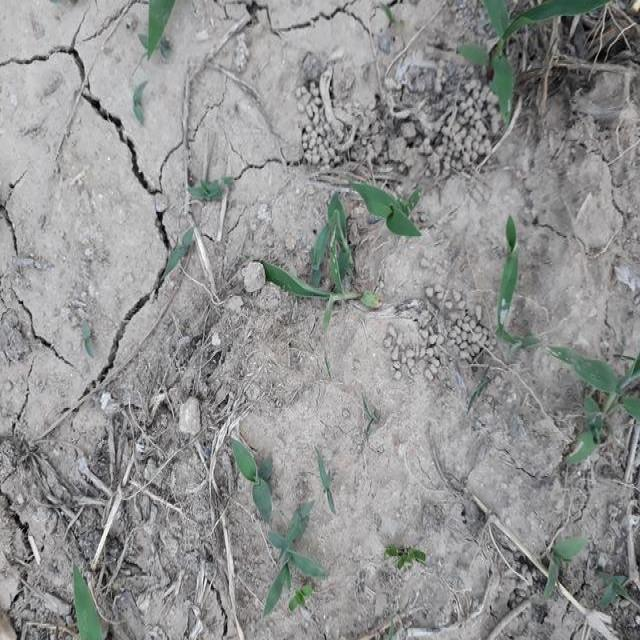weed: (455, 0, 614, 119), (538, 344, 640, 461), (262, 230, 382, 312), (268, 529, 328, 607), (228, 442, 286, 519), (500, 220, 520, 310)
